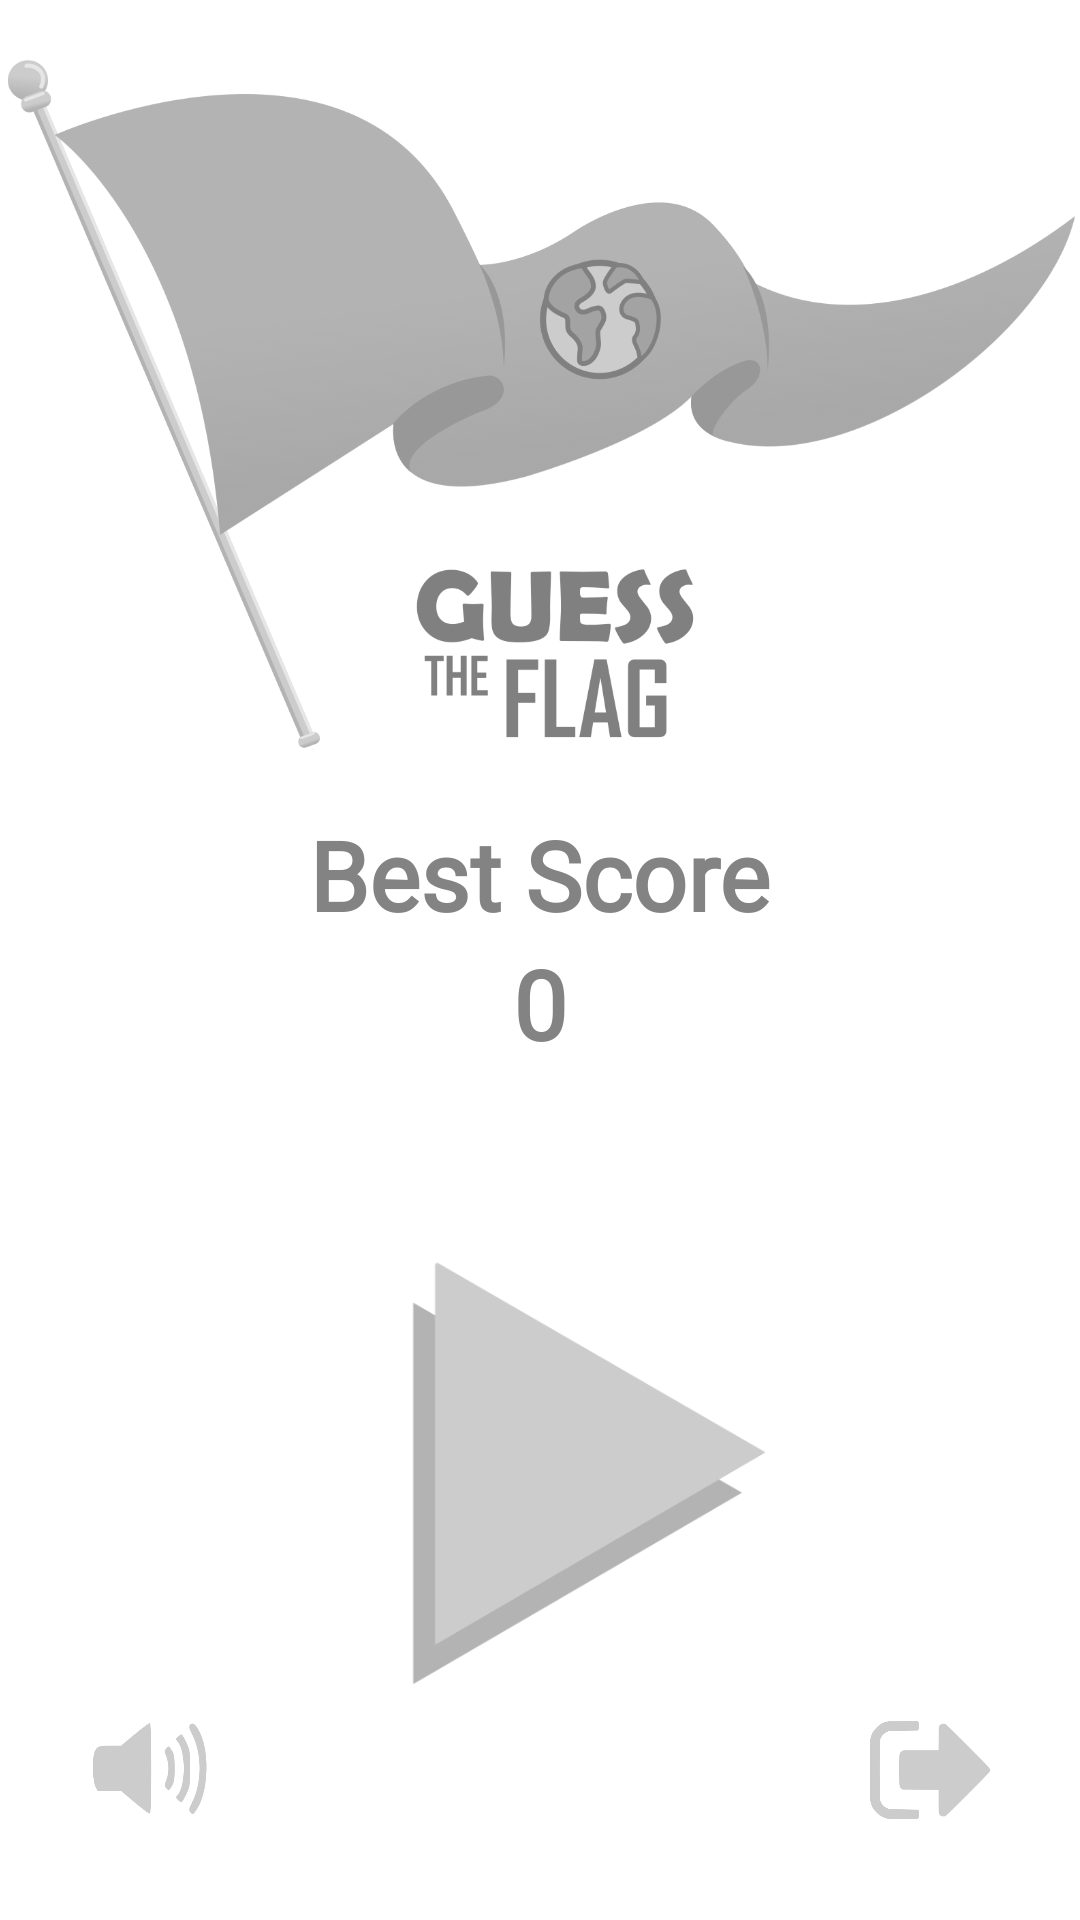

Locate icon controls on the screen. Image size 1080x1920, boxes as rect(x1, y1, x2, y2).
exit: rect(870, 1721, 990, 1819)
Volume: rect(93, 1723, 207, 1814)
